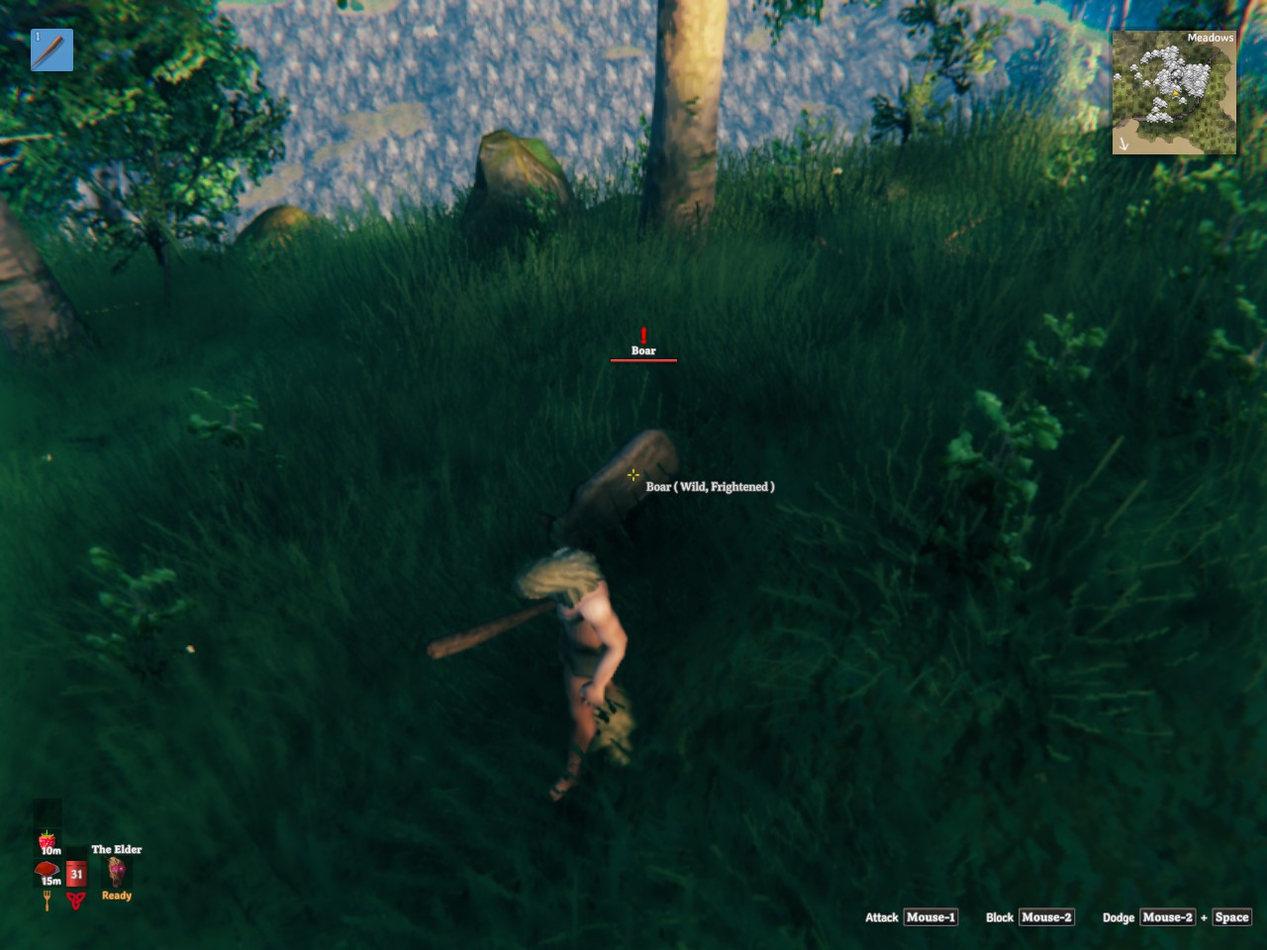Boar: (546, 429, 678, 548)
Club: (428, 601, 552, 658)
Food Indicator: (34, 860, 61, 884), (38, 829, 59, 853)
Health Bar: (63, 846, 90, 891)
Hotbar: (30, 28, 72, 71)
